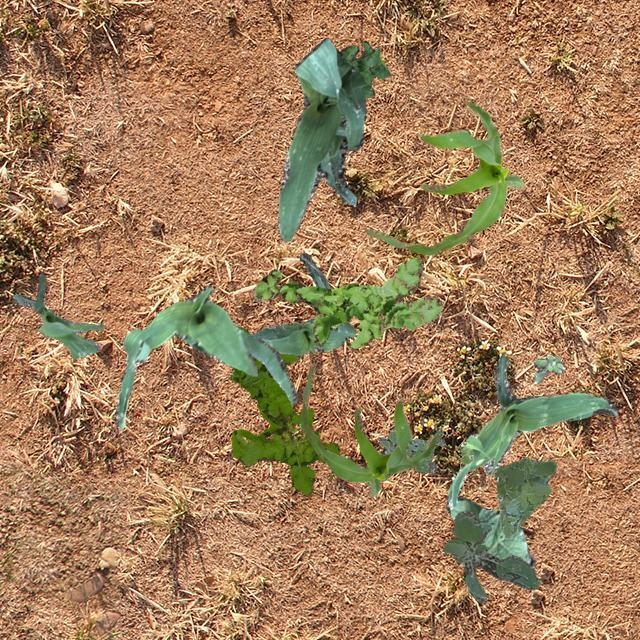crop: (115, 284, 296, 430), (448, 351, 616, 508), (364, 100, 524, 254), (276, 36, 366, 240), (298, 366, 436, 496), (250, 252, 354, 354), (11, 272, 104, 358), (444, 496, 534, 566)
weed: (228, 326, 338, 494), (250, 256, 442, 348), (442, 511, 538, 602), (494, 456, 556, 536), (334, 40, 390, 100), (378, 428, 444, 478), (532, 353, 564, 382)
